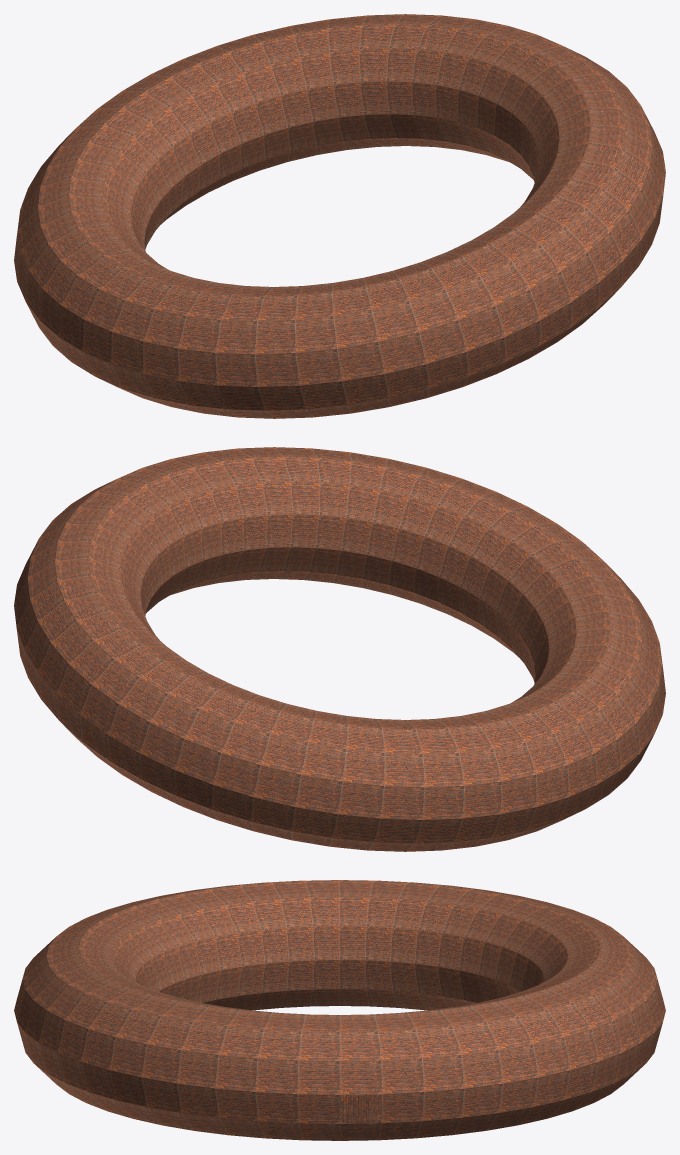
File: torusBlender.obj
3 renders of one model, top to bottom at view 1: azimuth 30°, elevation 25°; view 2: azimuth 150°, elevation 25°; view 3: azimuth 270°, elevation 25°, orthographic.
Visible parts, largest first — view 1: Torus; view 2: Torus; view 3: Torus.
Part boxes in pixels (x1,y1,x2,y2): Torus: (14,14,665,418); Torus: (14,447,665,851); Torus: (14,880,665,1140).
Size of the model in its own units: 2.46 by 0.8397 by 2.5.
